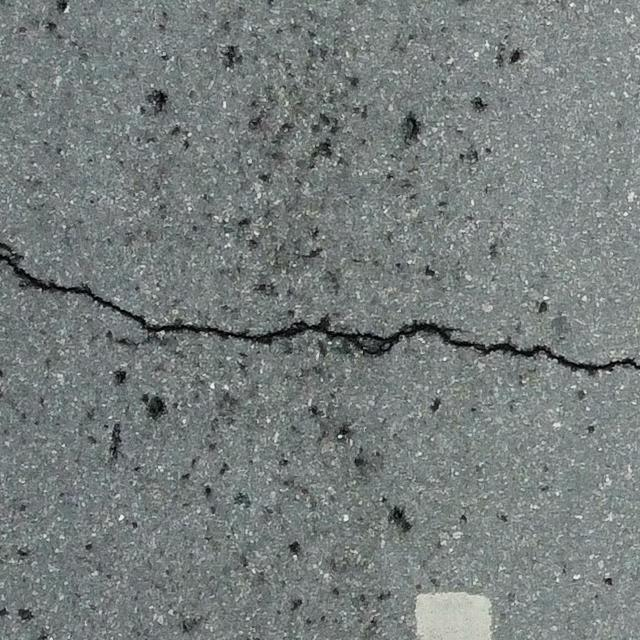TransverseCrack: (1, 241, 640, 376)
